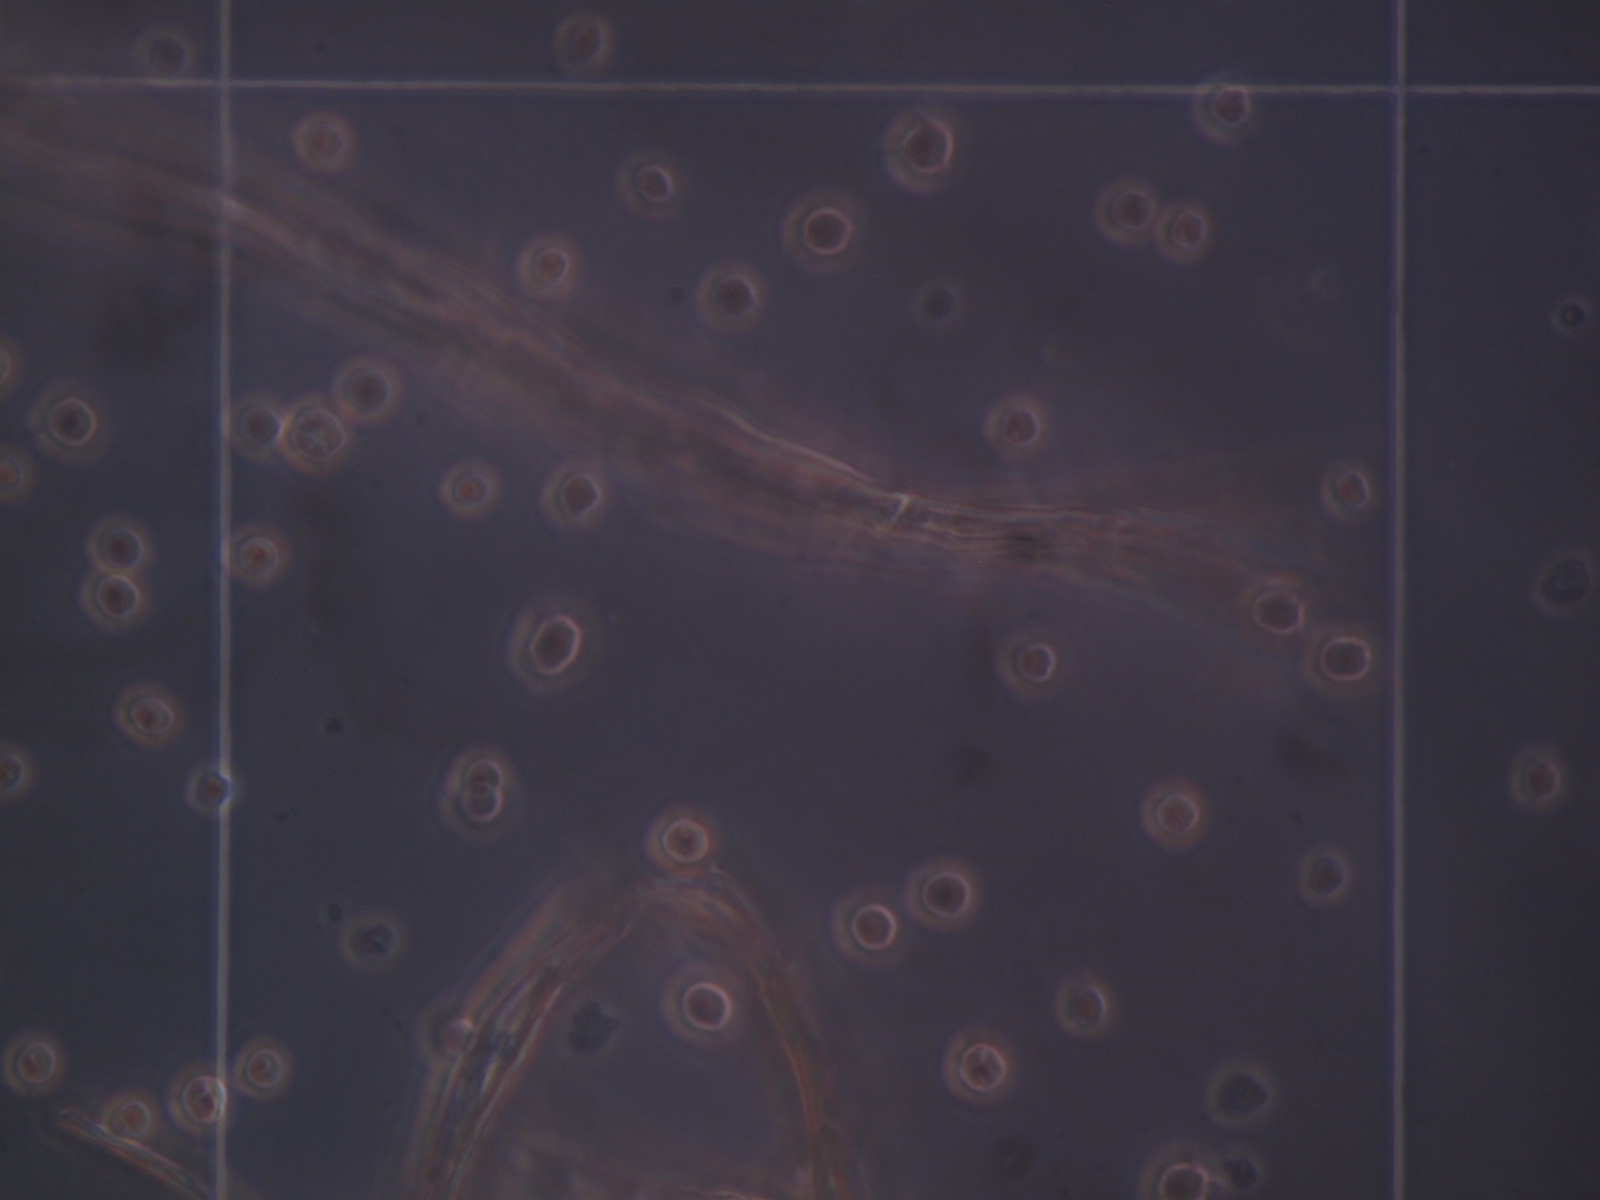hemo: (506, 592, 603, 695), (28, 376, 112, 470), (660, 957, 746, 1047), (780, 189, 860, 276), (879, 108, 954, 193), (831, 887, 908, 968), (280, 396, 353, 476), (693, 258, 767, 337), (905, 855, 978, 933), (1135, 1142, 1233, 1200), (646, 803, 721, 879), (945, 1026, 1015, 1105), (1233, 576, 1304, 652), (1140, 779, 1208, 856), (1191, 72, 1261, 144), (1305, 626, 1378, 695), (614, 150, 682, 223), (411, 993, 475, 1070), (983, 393, 1051, 463), (515, 233, 583, 303), (1531, 546, 1596, 616), (994, 632, 1060, 702), (222, 523, 292, 589), (168, 1063, 227, 1139), (81, 568, 150, 634), (543, 461, 609, 531), (440, 787, 518, 845), (334, 358, 401, 424), (1207, 1061, 1275, 1126), (129, 24, 194, 89), (3, 1030, 67, 1095), (1095, 180, 1157, 248), (86, 513, 155, 572), (290, 112, 355, 174), (113, 686, 181, 745), (1509, 744, 1567, 813), (234, 1035, 296, 1099), (226, 397, 286, 461), (553, 14, 614, 77), (437, 460, 501, 518), (339, 914, 406, 969), (101, 1090, 163, 1150), (445, 745, 522, 792), (1057, 978, 1117, 1037), (1157, 203, 1211, 266), (1298, 841, 1351, 904), (1322, 460, 1372, 523), (1211, 1145, 1269, 1192), (186, 766, 238, 816), (1, 737, 34, 800), (1, 442, 35, 503)
